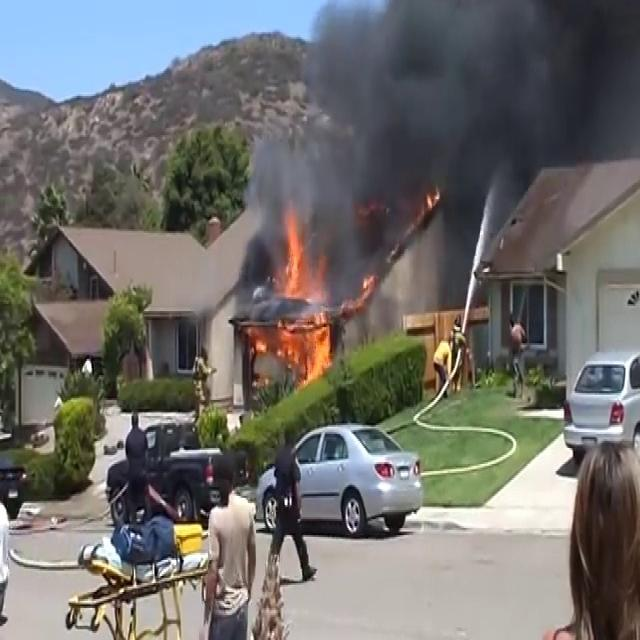Fire: (272, 214, 335, 297), (250, 316, 336, 376)
Smoke: (248, 0, 640, 279)
